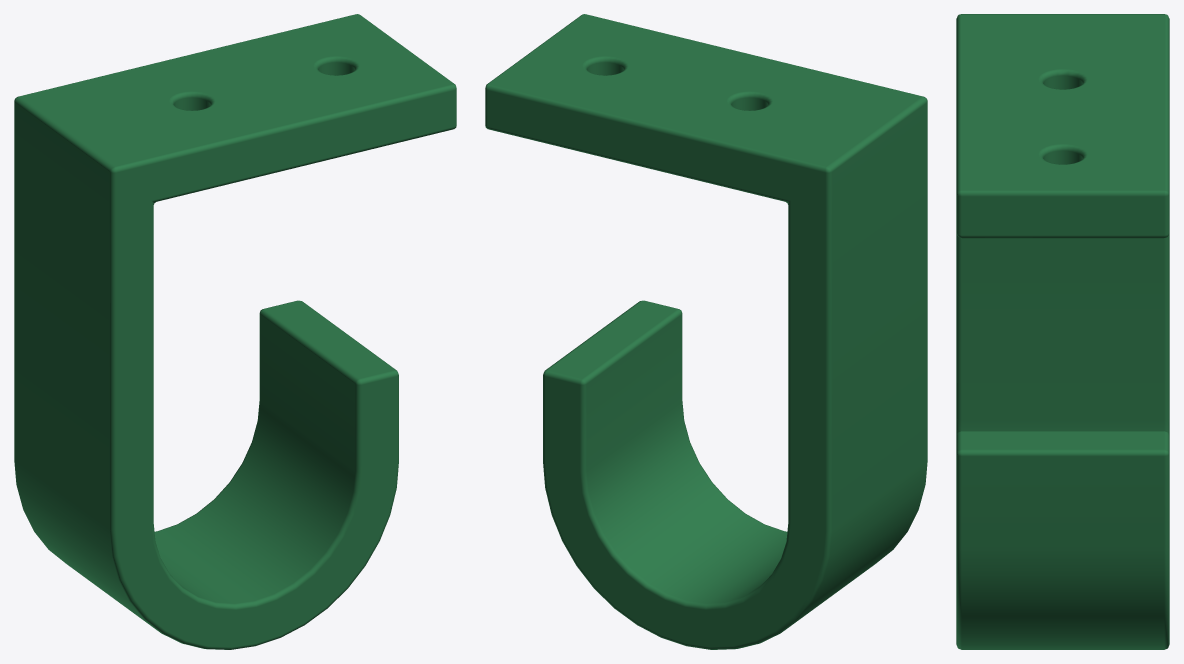
Rendered from hook.glb.
3 renders of one model, left to right at view 1: azimuth 30°, elevation 25°; view 2: azimuth 150°, elevation 25°; view 3: azimuth 270°, elevation 25°, orthographic. The views are drawn at different scales.
Parts seen in each view (by area): view 1: Hook; view 2: Hook; view 3: Hook.
Boxes of the visible parts, <box> form: Hook: <box>14,14,456,649</box>; Hook: <box>485,14,927,649</box>; Hook: <box>956,14,1169,649</box>.
Bounding box in the file's own units: 0.048 × 0.068 × 0.024.
